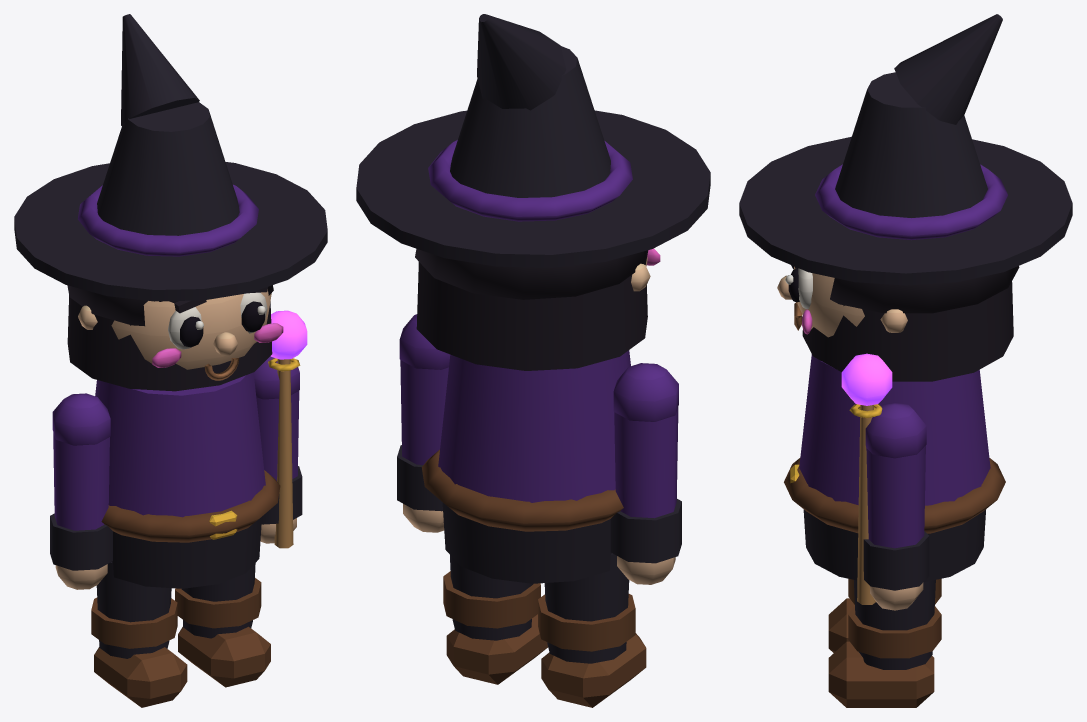
Rendered from hero_hex.glb.
3 views of the same model, side by side, from view 1: azimuth 30°, elevation 25°; view 2: azimuth 150°, elevation 25°; view 3: azimuth 270°, elevation 25° (orthographic). The views are drawn at different scales.
Parts seen in each view (by area): view 1: body_t0_palette, arml_t0_palette, legl_t0_palette, legr_t0_palette, armr_t0_palette, armr_t0_shadow_glow; view 2: body_t0_palette, arml_t0_palette, legl_t0_palette, legr_t0_palette, armr_t0_palette; view 3: body_t0_palette, armr_t0_palette, legr_t0_palette, armr_t0_shadow_glow, legl_t0_palette.
Part boxes in pixels (x1=…): body_t0_palette: x1=14, y1=14, x2=327, y2=588; arml_t0_palette: x1=50, y1=393, x2=112, y2=589; legl_t0_palette: x1=91, y1=562, x2=187, y2=707; legr_t0_palette: x1=175, y1=563, x2=270, y2=687; armr_t0_palette: x1=253, y1=356, x2=302, y2=548; armr_t0_shadow_glow: x1=271, y1=310, x2=307, y2=359; body_t0_palette: x1=356, y1=14, x2=710, y2=583; arml_t0_palette: x1=610, y1=363, x2=681, y2=584; legl_t0_palette: x1=538, y1=553, x2=646, y2=707; legr_t0_palette: x1=443, y1=555, x2=547, y2=684; armr_t0_palette: x1=397, y1=314, x2=450, y2=532; body_t0_palette: x1=739, y1=14, x2=1072, y2=582; armr_t0_palette: x1=849, y1=402, x2=929, y2=610; legr_t0_palette: x1=828, y1=580, x2=941, y2=707; armr_t0_shadow_glow: x1=841, y1=353, x2=892, y2=405; legl_t0_palette: x1=828, y1=578, x2=941, y2=652.
Size of the model in its own units: 0.3 by 0.6592 by 0.3.
